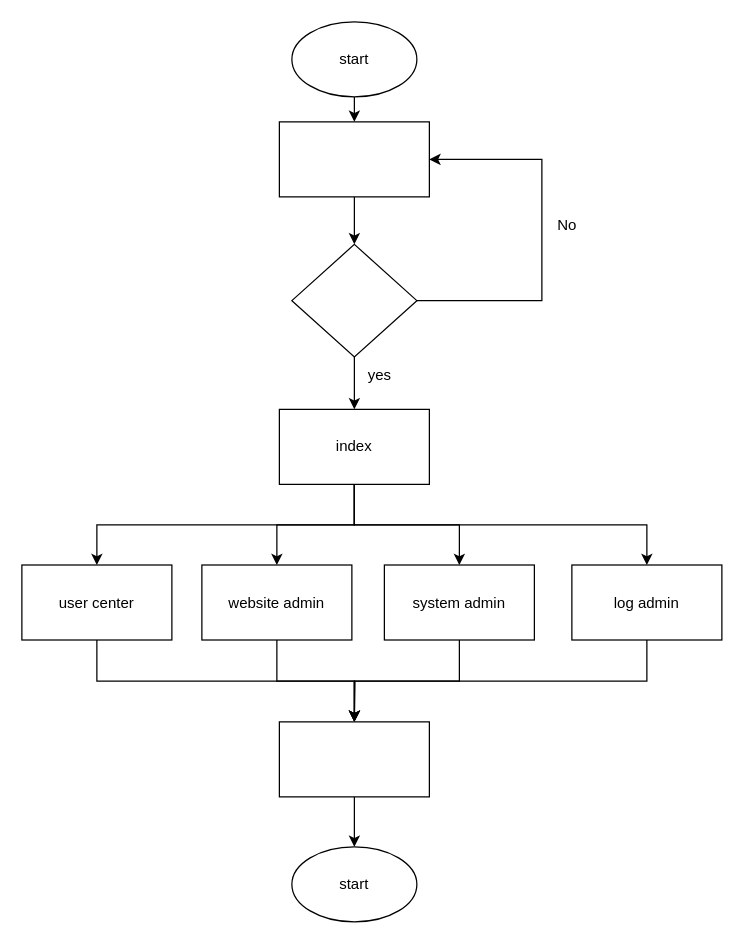
The diagram is 744 pixels wide and 944 high, and some of its shapes have lost their labels. Each missing label, with the box of its shape:
account and password is correct: (291, 243, 417, 357)
login: (278, 121, 429, 197)
logout: (278, 721, 429, 797)
